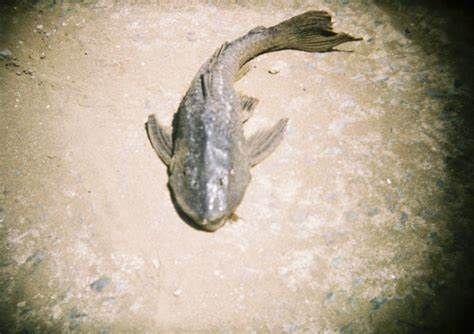Janitor Fish: (146, 9, 365, 233)
